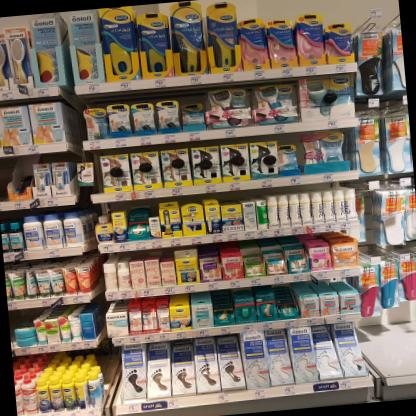empty_space: (379, 312, 416, 375), (0, 158, 8, 202), (8, 310, 14, 346)
